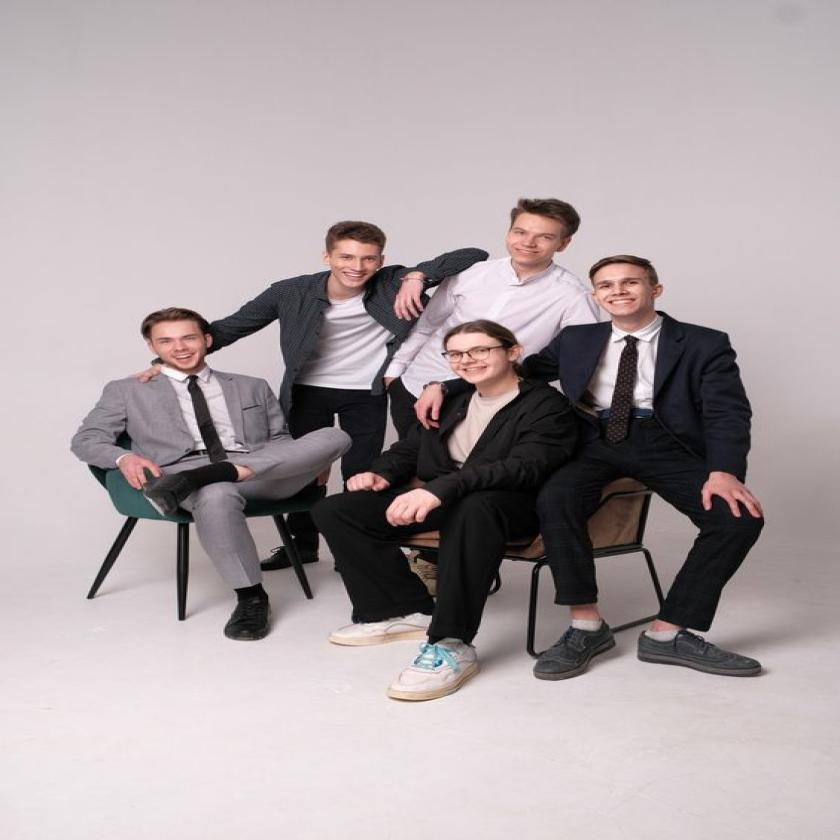Sin_casco: (439, 316, 529, 394), (502, 196, 585, 276), (588, 253, 670, 333), (136, 308, 221, 378), (316, 221, 393, 287)
